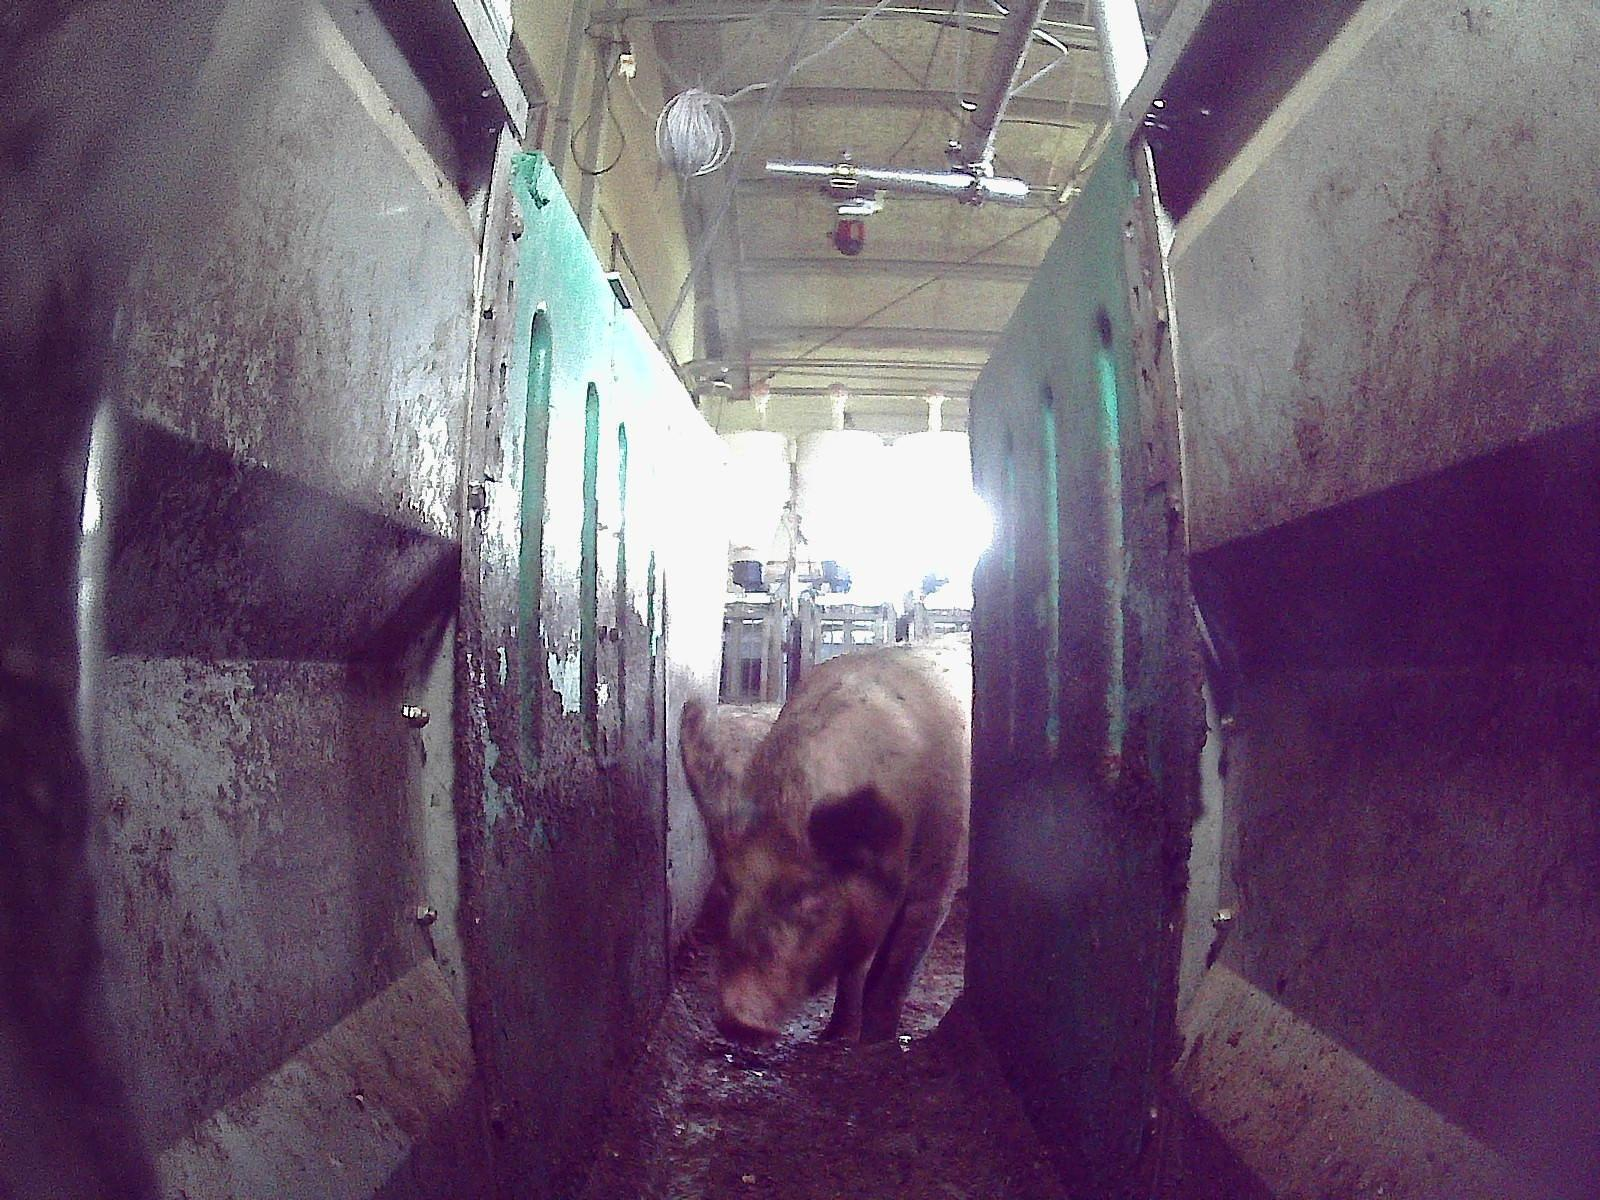Face: (712, 824, 864, 1046)
